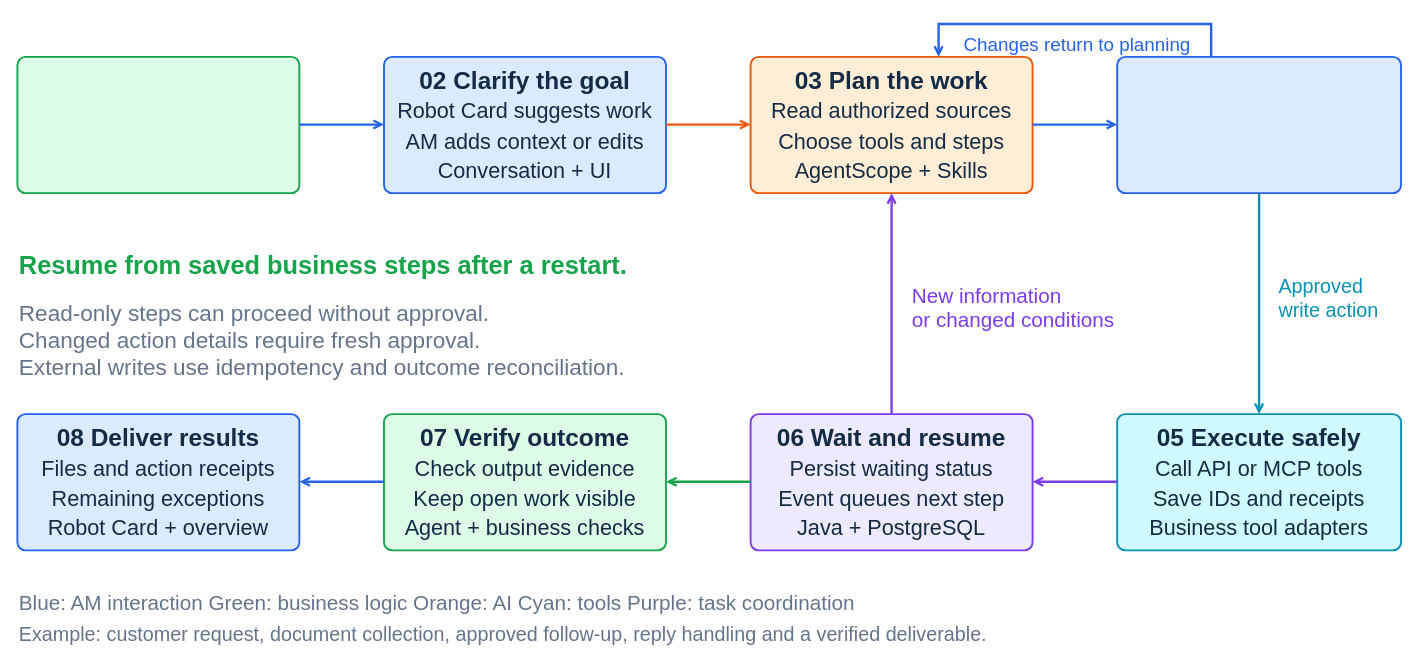
Some shapes in this 1418 by 663 pixel diagram are drawn without their labels. Each missing label, with the centre of its shape:
01 Recognize work Mail or chat identifies a customer task AAM intake: the point at 158,124
04 Approve action Review exact content and target recipients AM + Java checks: the point at 1259,124
